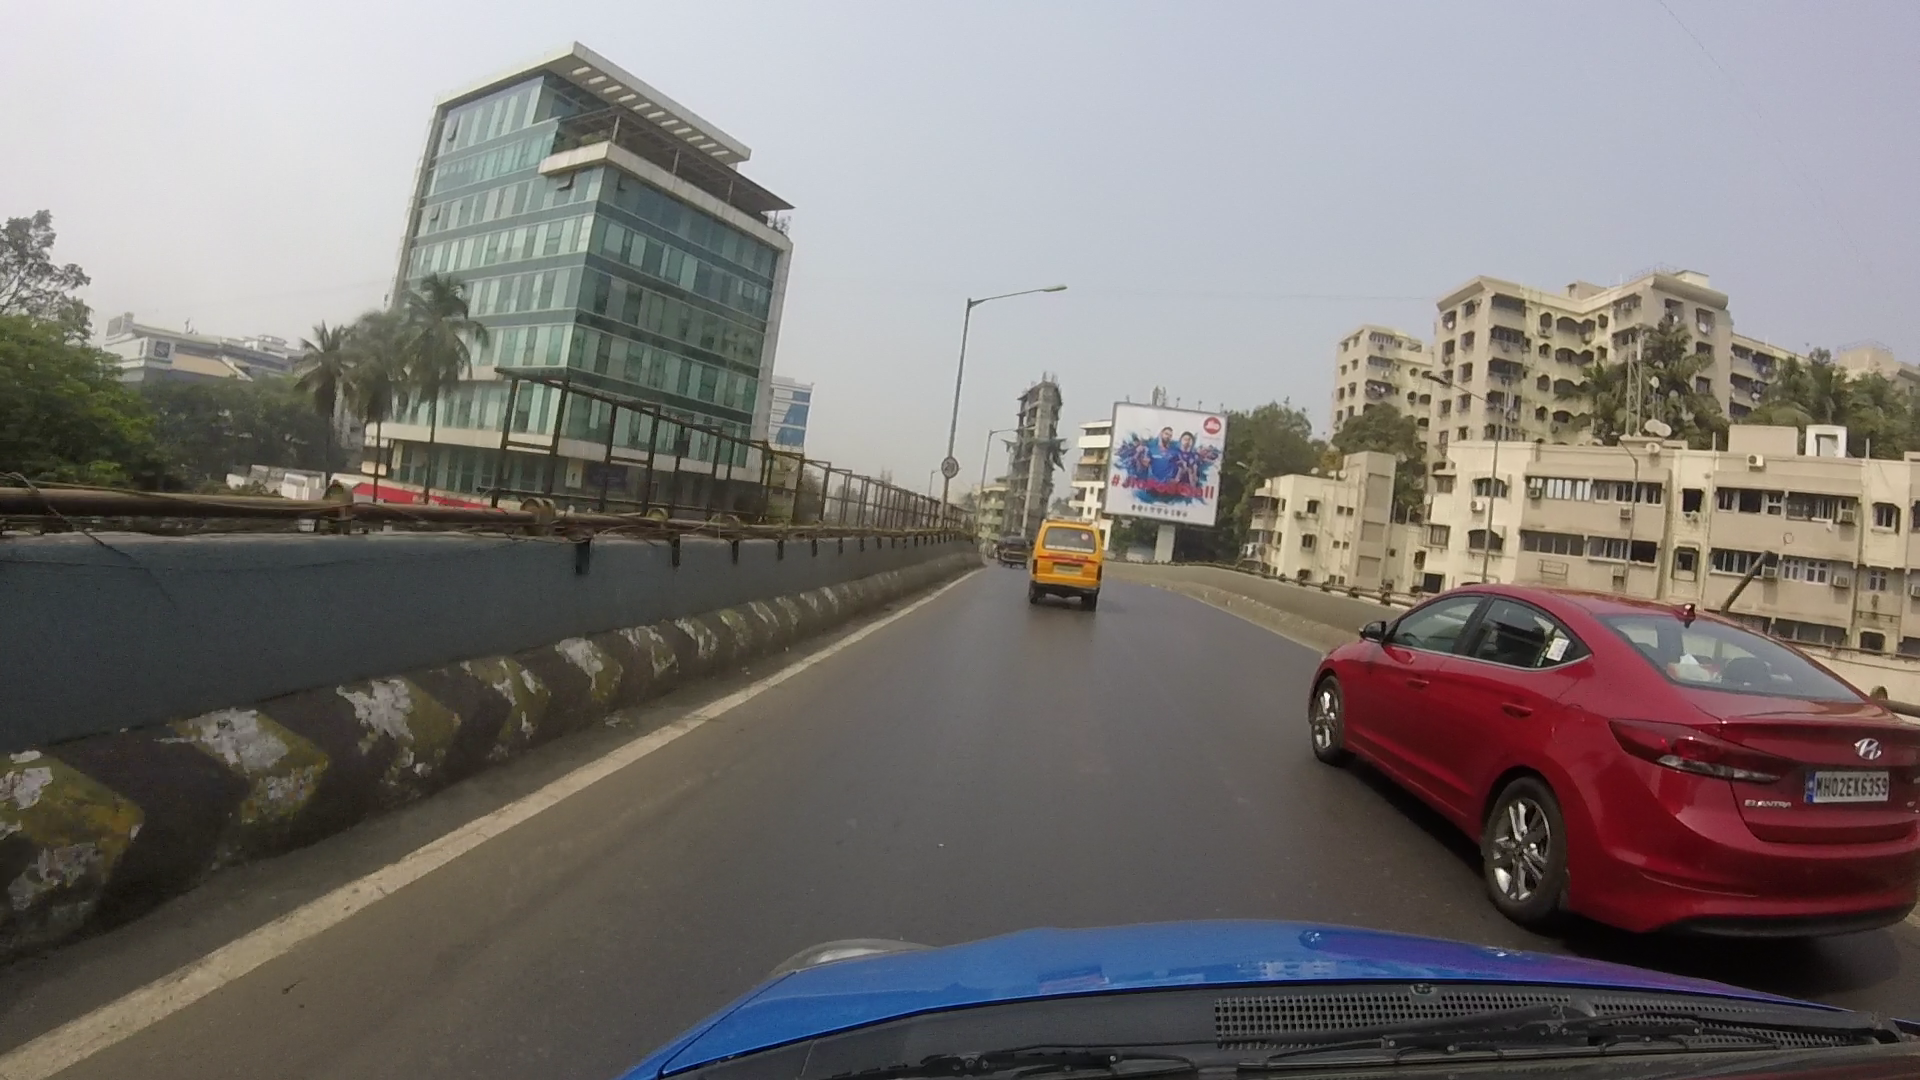car: (1317, 551, 1920, 916), (996, 460, 1151, 616)
